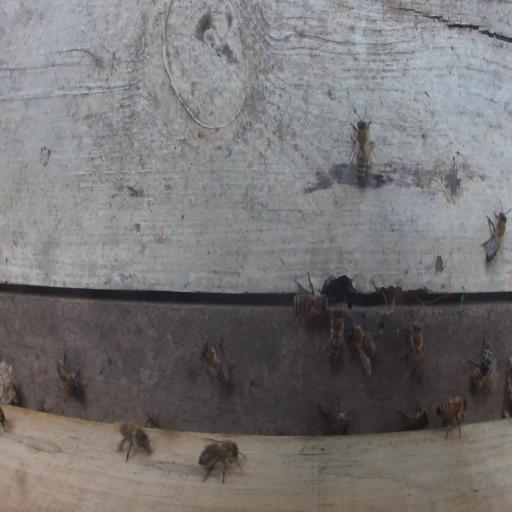bee: (344, 308, 378, 378), (196, 436, 242, 478), (319, 304, 348, 368), (399, 319, 427, 383), (435, 390, 469, 441), (200, 338, 232, 392), (464, 332, 492, 392), (316, 392, 353, 436), (116, 419, 152, 463), (482, 208, 508, 267), (290, 286, 330, 324), (396, 393, 434, 432), (351, 119, 372, 187), (54, 346, 81, 397)
